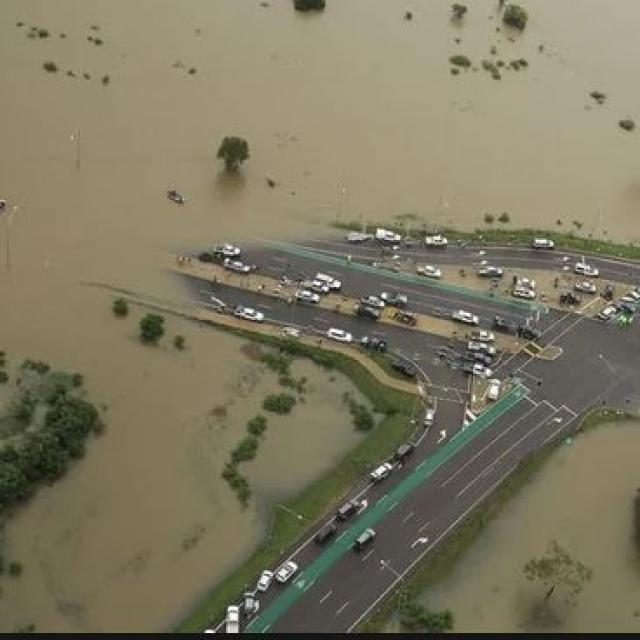flooded_areas: (0, 0, 567, 477)
